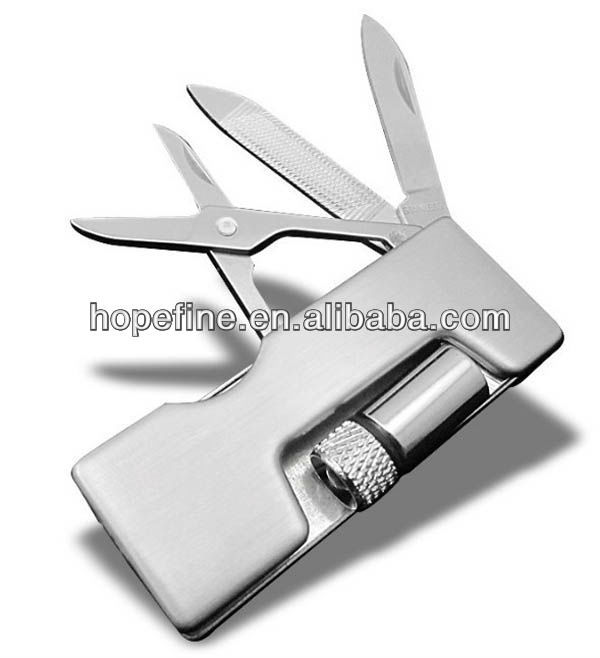knief: (76, 42, 554, 604)
